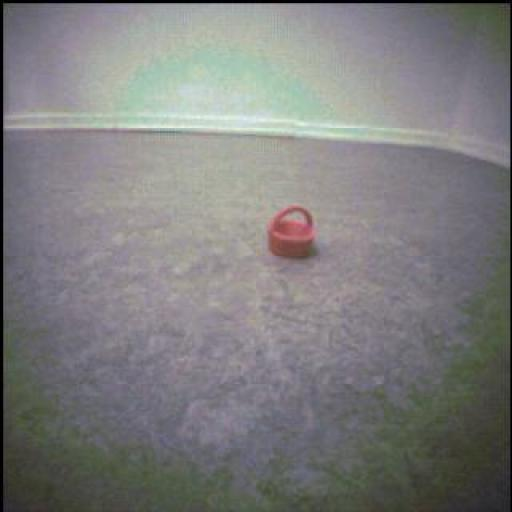Bucket: (268, 206, 316, 259)
